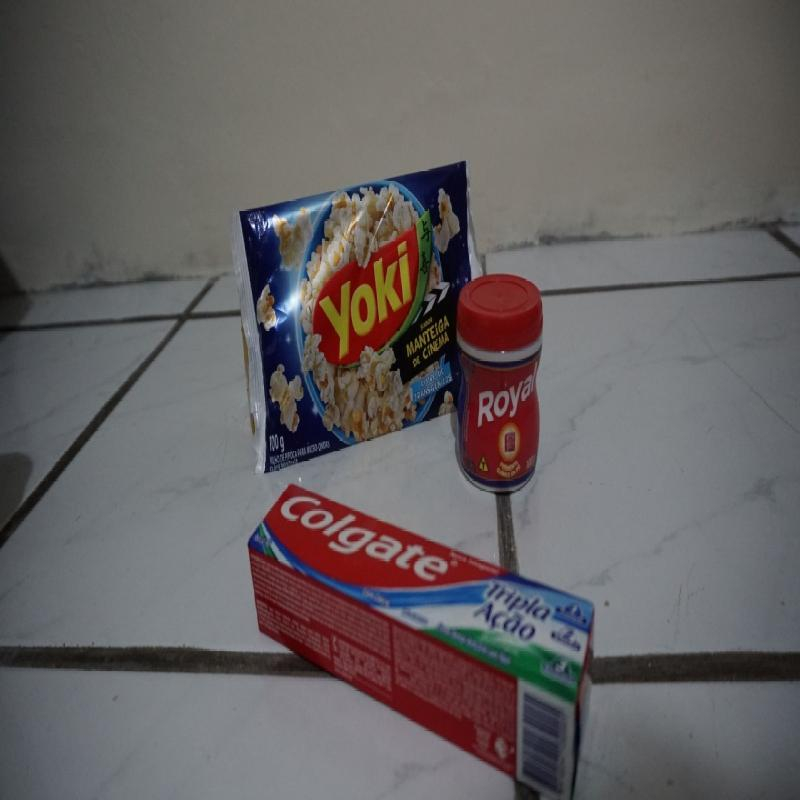Popcorn: (229, 172, 449, 461)
Toothpaste: (240, 481, 607, 793)
Yeast: (457, 275, 542, 467)
